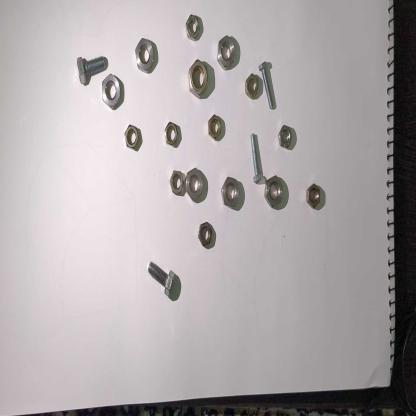Bolts: (146, 258, 176, 299), (257, 60, 279, 115), (76, 56, 108, 88), (249, 131, 263, 187)
NUTS: (132, 36, 158, 74), (186, 57, 209, 98), (182, 166, 206, 204), (216, 34, 236, 74), (102, 74, 123, 110), (265, 173, 284, 212), (221, 174, 240, 211), (168, 168, 184, 200), (184, 14, 200, 44), (197, 221, 214, 249), (124, 121, 139, 152), (244, 72, 259, 102), (164, 120, 178, 149), (206, 112, 221, 139), (307, 182, 320, 208), (278, 125, 292, 148)
